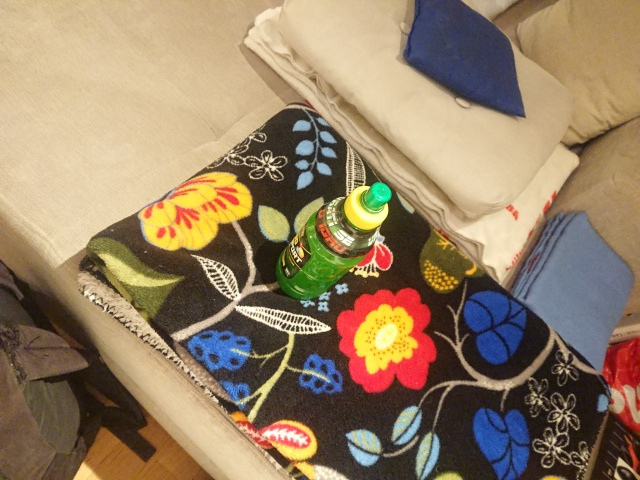Vindi Iso Sport Lemon-Grapefruit 500mL: (272, 180, 394, 303)
